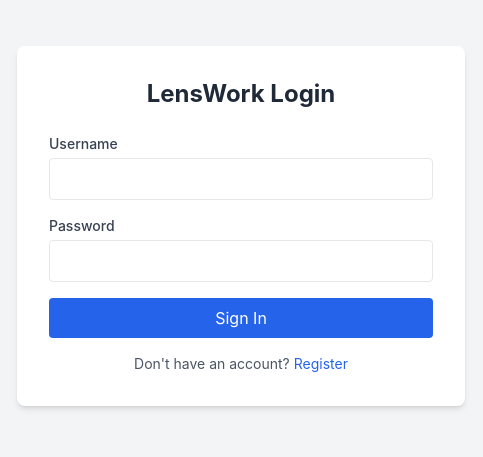
LoginPage › shows generic fallback error when response has no msg
Type "a" into the field at {"x": 241, "y": 179}, box [49,158,433,200]
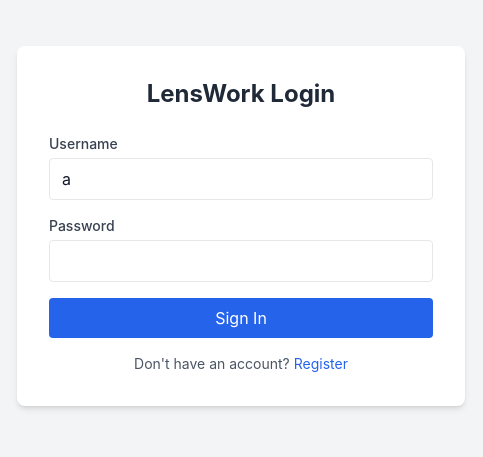
Type "p" into the password field at {"x": 241, "y": 261}, box [49,240,433,282]
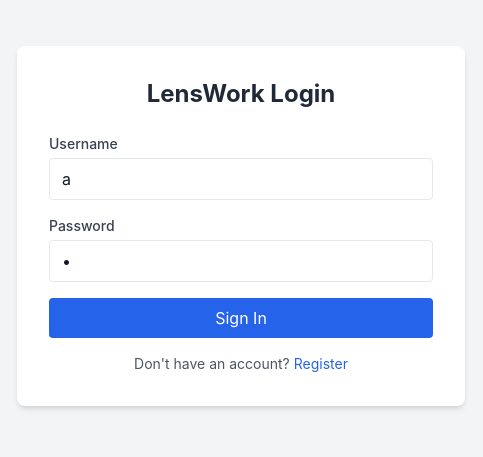
Click the button "Sign In" at {"x": 241, "y": 318}, box [49,298,433,338]
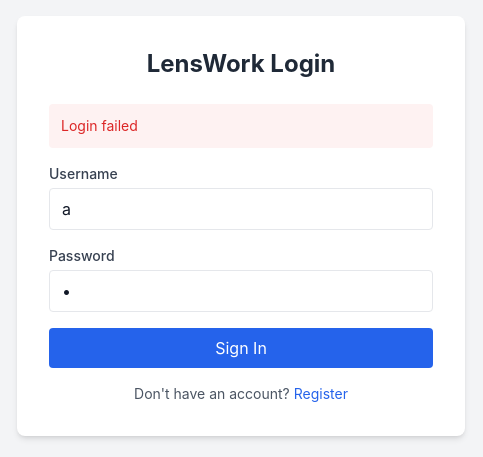
Now the text "Login failed" is shown, box [49,104,433,148]
